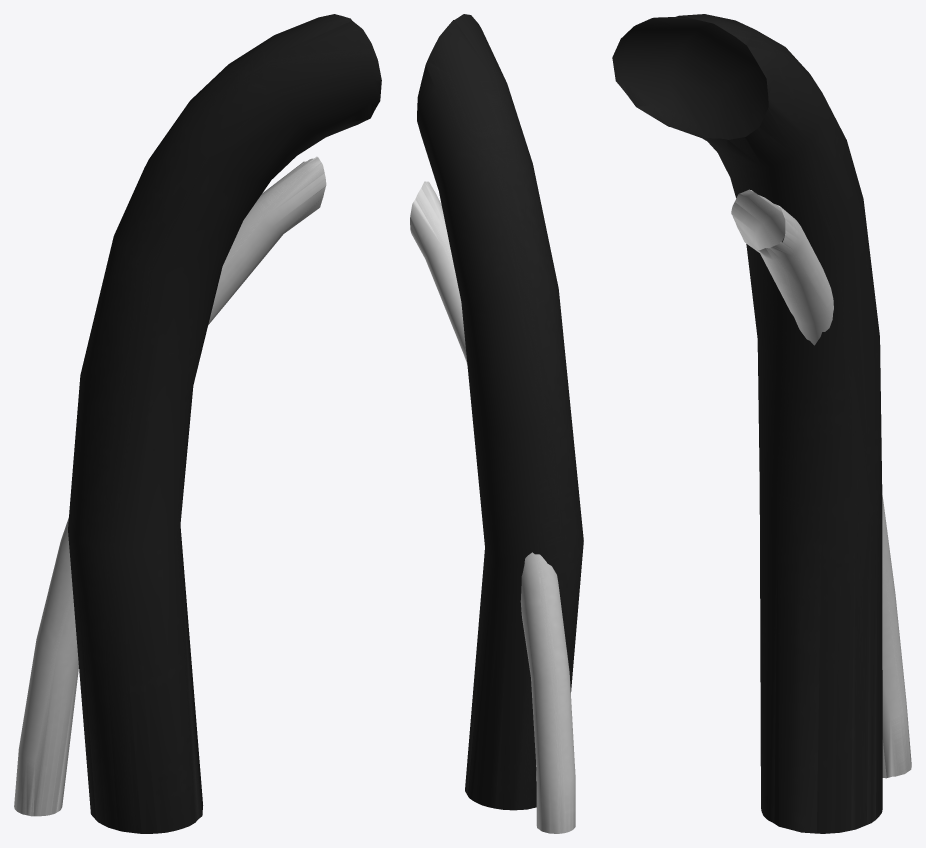
The model's file is TightenerStation_Cube22.glb.
3 renders of one model, left to right at view 1: azimuth 30°, elevation 25°; view 2: azimuth 150°, elevation 25°; view 3: azimuth 270°, elevation 25°, orthographic. The views are drawn at different scales.
Parts seen in each view (by area): view 1: color-2.024; view 2: color-2.024; view 3: color-2.024.
Part boxes in pixels (left/top/right/bottom): color-2.024: left=14, top=14, right=381, bottom=833; color-2.024: left=410, top=14, right=583, bottom=833; color-2.024: left=612, top=14, right=911, bottom=833.
Size of the model in its own units: 0.0714 by 0.2332 by 0.0733.
Materials: 2 (2 with a texture image).
